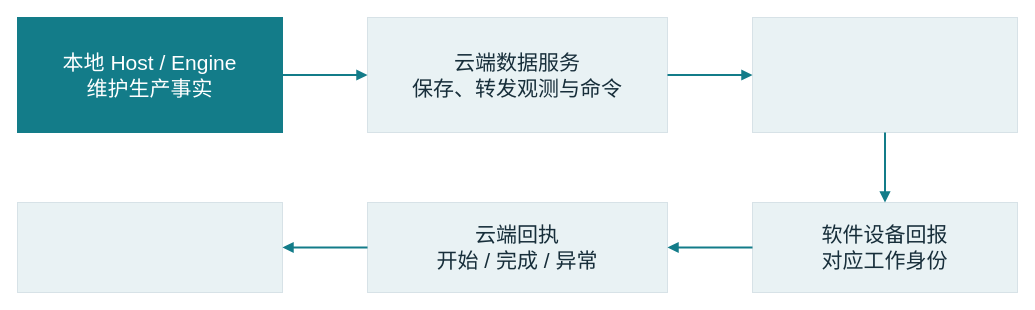
This 1035x310 diagram has some shape labels left out. The shapes that lost their labels are listed below. From the top down, each one's centre as x and y in pixels, then its label:
At (x=885, y=74): "独立软件设备 执行命令并回报".
At (x=149, y=247): "Host接纳回执 画布 · 时间轴 · 报告".
